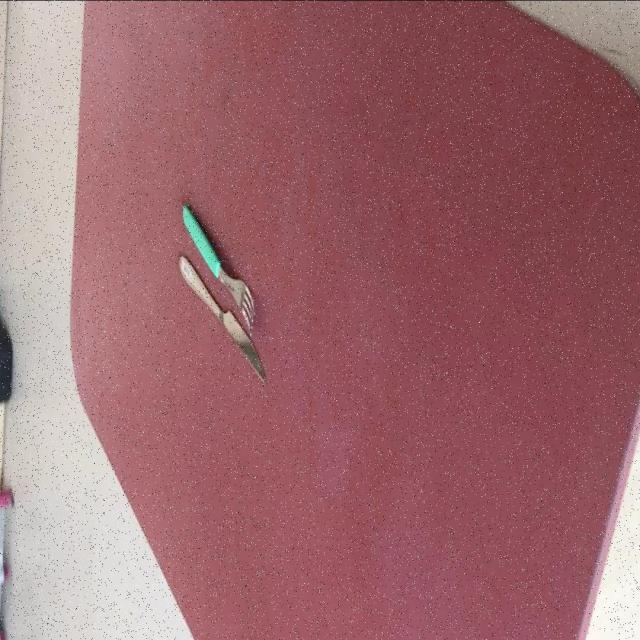Fork: (181, 206, 255, 336)
Knife: (178, 256, 266, 388)
